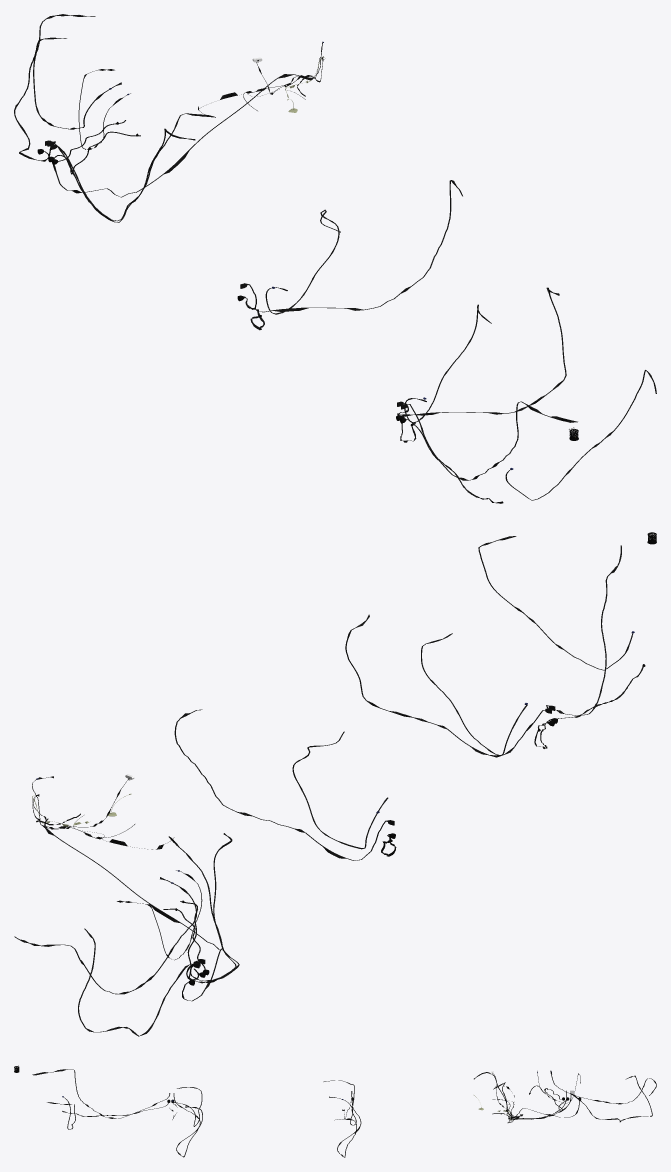
File: postazioniparte2.gltf
The picture shows the model from 3 angles, top to bottom: view 1: azimuth 30°, elevation 25°; view 2: azimuth 150°, elevation 25°; view 3: azimuth 270°, elevation 25°; orthographic projection. The views are drawn at different scales.
Visible parts, largest first — view 1: no part large enough to name; view 2: no part large enough to name; view 3: Lorenzo Telefono Cavo, Lello Telefono Cavo, Ciro Telefono Cavo, Lello Cavo Pc Dx, Copia Telefono Cavo.
Part boxes in pixels (x1,y1,x2,y2): Lorenzo Telefono Cavo: [32, 1069, 170, 1118]; Lello Telefono Cavo: [572, 1075, 652, 1122]; Ciro Telefono Cavo: [173, 1096, 202, 1157]; Lello Cavo Pc Dx: [550, 1070, 656, 1104]; Copia Telefono Cavo: [334, 1092, 361, 1157].
Size of the model in its own units: 1.78 by 1.12 by 7.85.
12 materials, 2 textured.
